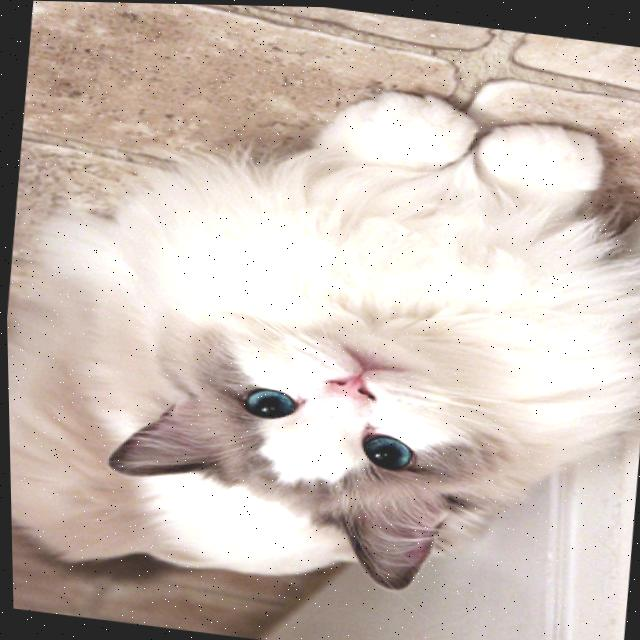Ragdoll: (1, 38, 640, 640)
